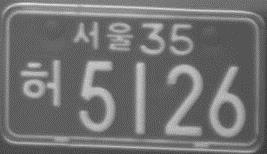1: (128, 57, 152, 137)
2: (162, 62, 204, 139)
3: (137, 20, 166, 57)
5: (77, 59, 118, 133), (169, 22, 197, 57)
6: (207, 62, 246, 137)
서울_O: (71, 19, 134, 54)
허: (19, 57, 64, 109)
